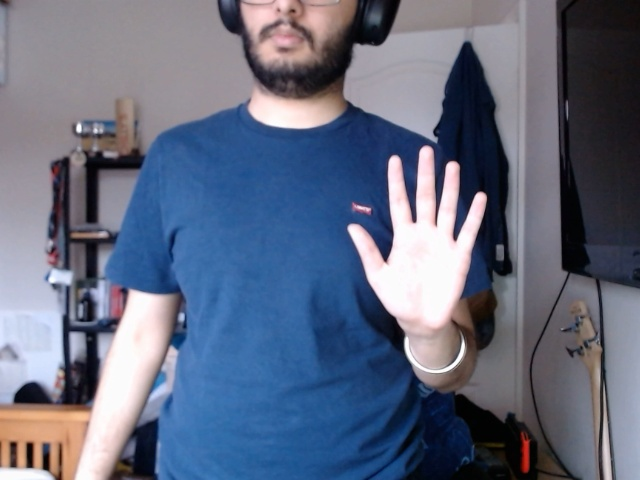Hello: (342, 142, 496, 328)
